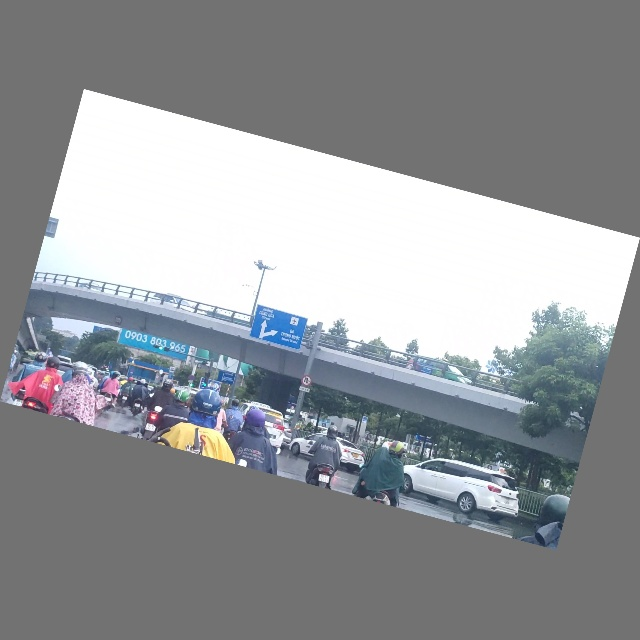P.124b1: (300, 375, 313, 388)
